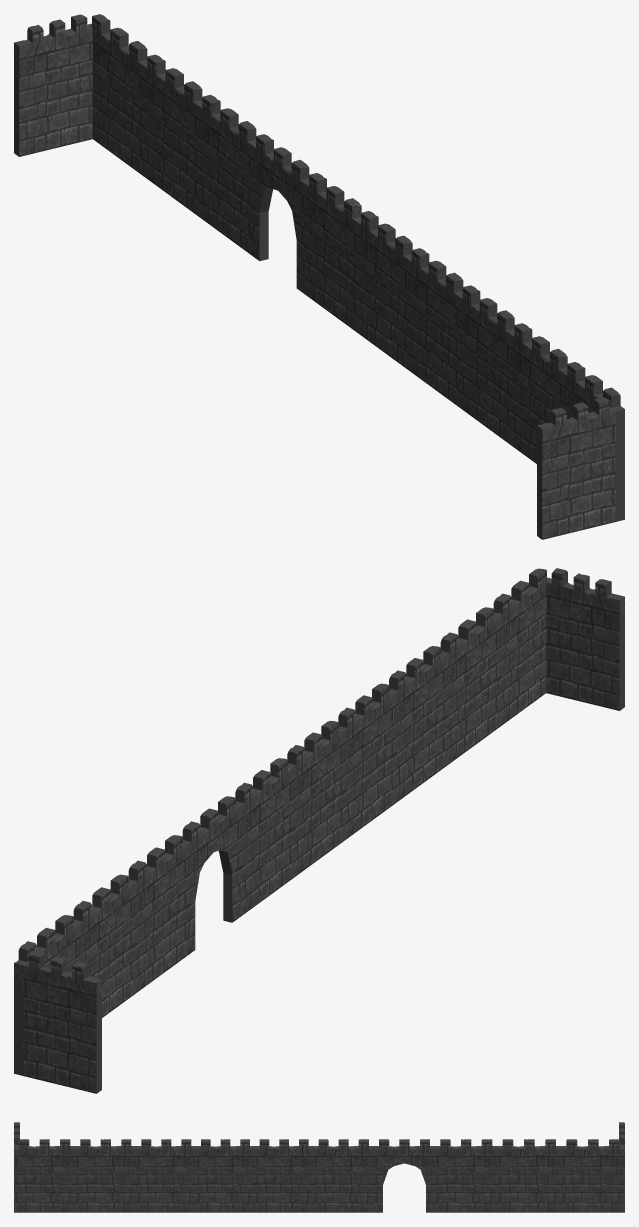
The model's file is Wild_DoorFrame.glb.
3 views of the same model, one above another, from view 1: azimuth 30°, elevation 25°; view 2: azimuth 150°, elevation 25°; view 3: azimuth 270°, elevation 25° (orthographic). The views are drawn at different scales.
Visible parts, largest first — view 1: Castlewall; view 2: Castlewall; view 3: Castlewall.
Boxes of the visible parts, x1,y1,x2,y2 form: Castlewall: (14,14,624,539); Castlewall: (14,568,624,1093); Castlewall: (14,1122,624,1212).
Size of what is drawn, in the model's own units: 4.44 by 6.29 by 49.15.
3 materials, 1 textured.
